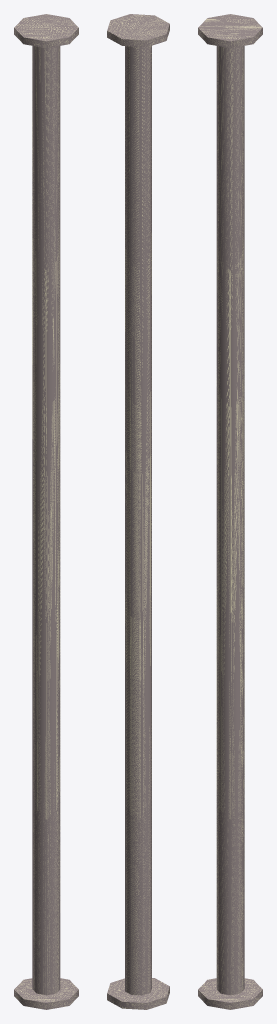
File: original-8.obj
3 renders of one model, left to right at view 1: azimuth 90°, elevation 25°; view 2: azimuth 150°, elevation 25°; view 3: azimuth 270°, elevation 25°, orthographic.
Parts seen in each view (by area): view 1: Component_58_5/Component_58/mesh7/mesh7-geometry#mesh7-geometry; view 2: Component_58_5/Component_58/mesh7/mesh7-geometry#mesh7-geometry; view 3: Component_58_5/Component_58/mesh7/mesh7-geometry#mesh7-geometry.
Part boxes in pixels (left/top/right/bottom): Component_58_5/Component_58/mesh7/mesh7-geometry#mesh7-geometry: left=14, top=14, right=78, bottom=1009; Component_58_5/Component_58/mesh7/mesh7-geometry#mesh7-geometry: left=107, top=14, right=169, bottom=1009; Component_58_5/Component_58/mesh7/mesh7-geometry#mesh7-geometry: left=198, top=14, right=262, bottom=1009.
Size of the model in its own units: 0.0103 by 0.1691 by 0.0103.
